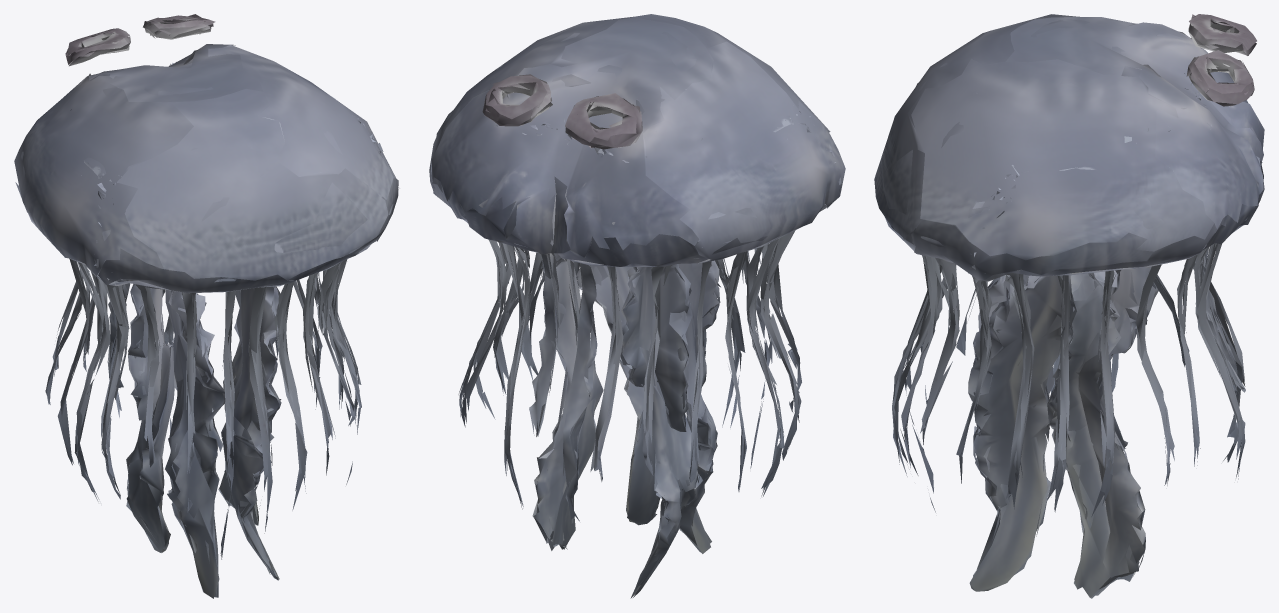
Rendered from moon_jellyfish_optimized.glb.
3 renders of one model, left to right at view 1: azimuth 30°, elevation 25°; view 2: azimuth 150°, elevation 25°; view 3: azimuth 270°, elevation 25°, orthographic. The views are drawn at different scales.
Visible parts, largest first — view 1: world; view 2: world; view 3: world.
Part boxes in pixels (x1=…): world: x1=14, y1=14, x2=399, y2=598; world: x1=429, y1=14, x2=845, y2=598; world: x1=874, y1=14, x2=1264, y2=598.
Size of the model in its own units: 0.3455 by 0.5008 by 0.326.
1 material, 1 textured.
